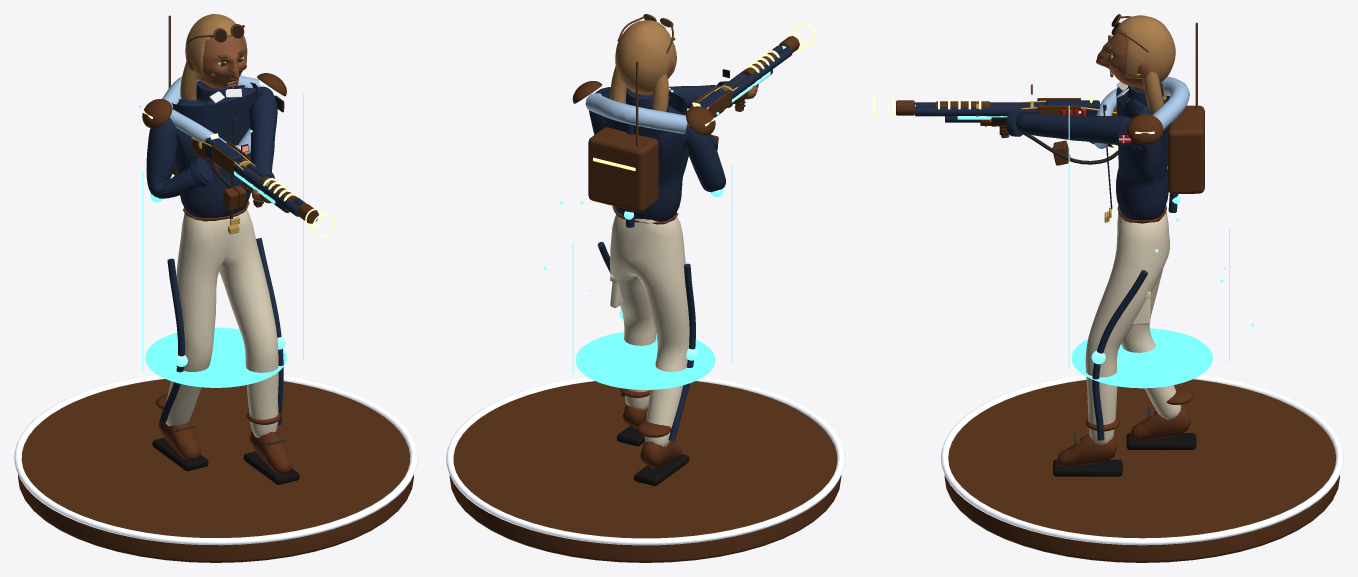
The model's file is hagl_hellerup.glb.
The picture shows the model from 3 angles, left to right: view 1: azimuth 30°, elevation 25°; view 2: azimuth 150°, elevation 25°; view 3: azimuth 270°, elevation 25°; orthographic projection.
Visible parts, largest first — view 1: fod_net, menneske_net, op4.001_net, hoved_net, op4_net, vaaben_net, op3_net, op3.001_net, op4.002_net; view 2: fod_net, menneske_net, op4_net, op4.001_net, hoved_net, op3_net, vaaben_net, op3.001_net, op4.002_net; view 3: fod_net, menneske_net, op4.001_net, hoved_net, op4_net, vaaben_net, ned4_net, op3_net, op3.001_net.
Boxes of the visible parts, x1,y1,x2,y2 form: fod_net: (14, 374, 417, 562); menneske_net: (146, 75, 299, 484); op4.001_net: (139, 94, 303, 387); hoved_net: (180, 14, 247, 100); op4_net: (150, 85, 285, 425); vaaben_net: (192, 137, 305, 216); op3_net: (142, 15, 286, 128); op3.001_net: (210, 133, 318, 223); op4.002_net: (222, 171, 334, 237); fod_net: (446, 377, 844, 562); menneske_net: (585, 81, 757, 485); op4_net: (588, 123, 723, 441); op4.001_net: (544, 90, 732, 389); hoved_net: (610, 14, 676, 111); op3_net: (572, 61, 715, 146); vaaben_net: (690, 45, 792, 117); op3.001_net: (692, 36, 799, 116); op4.002_net: (713, 22, 815, 150); fod_net: (941, 375, 1343, 562); menneske_net: (993, 76, 1196, 476); op4.001_net: (1068, 105, 1254, 388); hoved_net: (1096, 14, 1175, 114); op4_net: (1091, 105, 1205, 440); vaaben_net: (915, 100, 1124, 126); ned4_net: (1167, 118, 1196, 193); op3_net: (1126, 22, 1197, 144); op3.001_net: (896, 95, 1093, 115).
Bounding box in the file's own units: 1.94 × 2.45 × 2.26.
